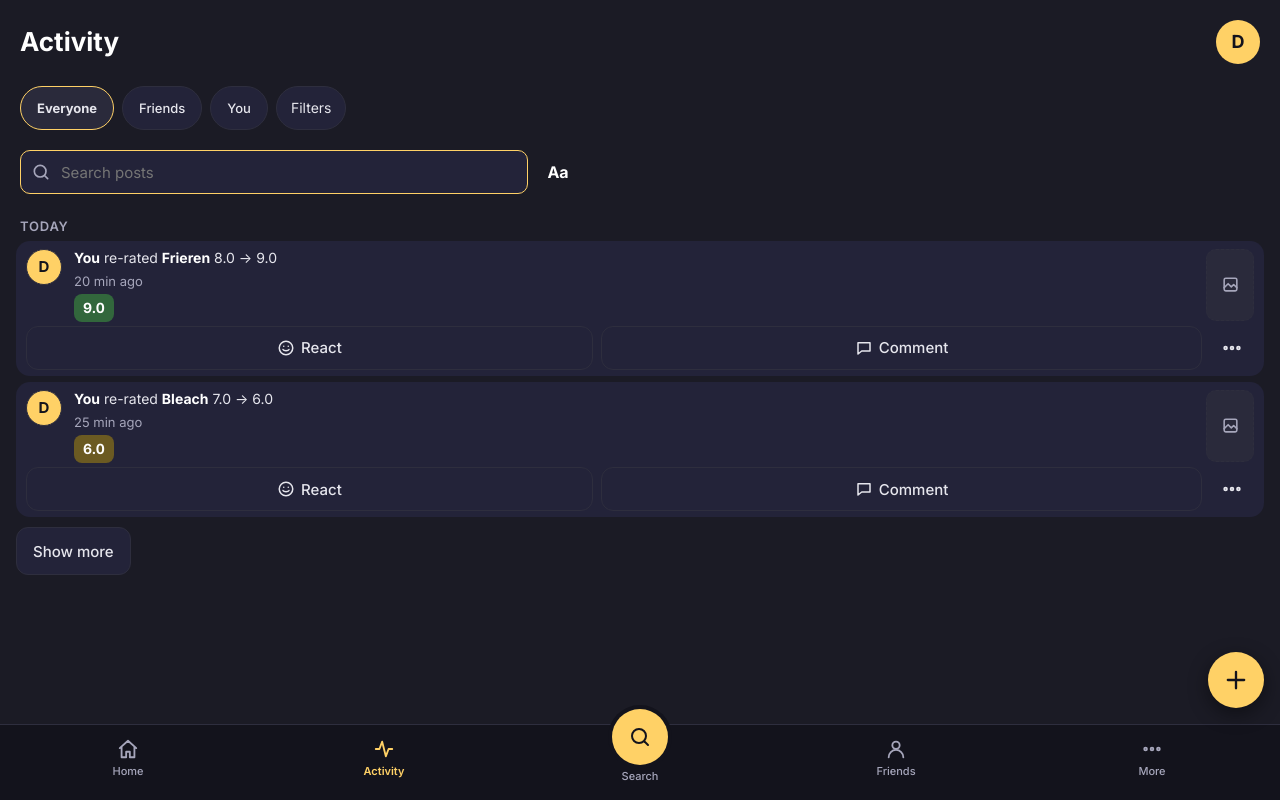
ActivityScreen › folds posts across the pages together: one line for a post split over two pages, none for a change and back
Expected: the link "Frieren" is shown, [162,249,210,266]
Click the button "Show more".
click(73, 551)  # box [16,527,131,575]
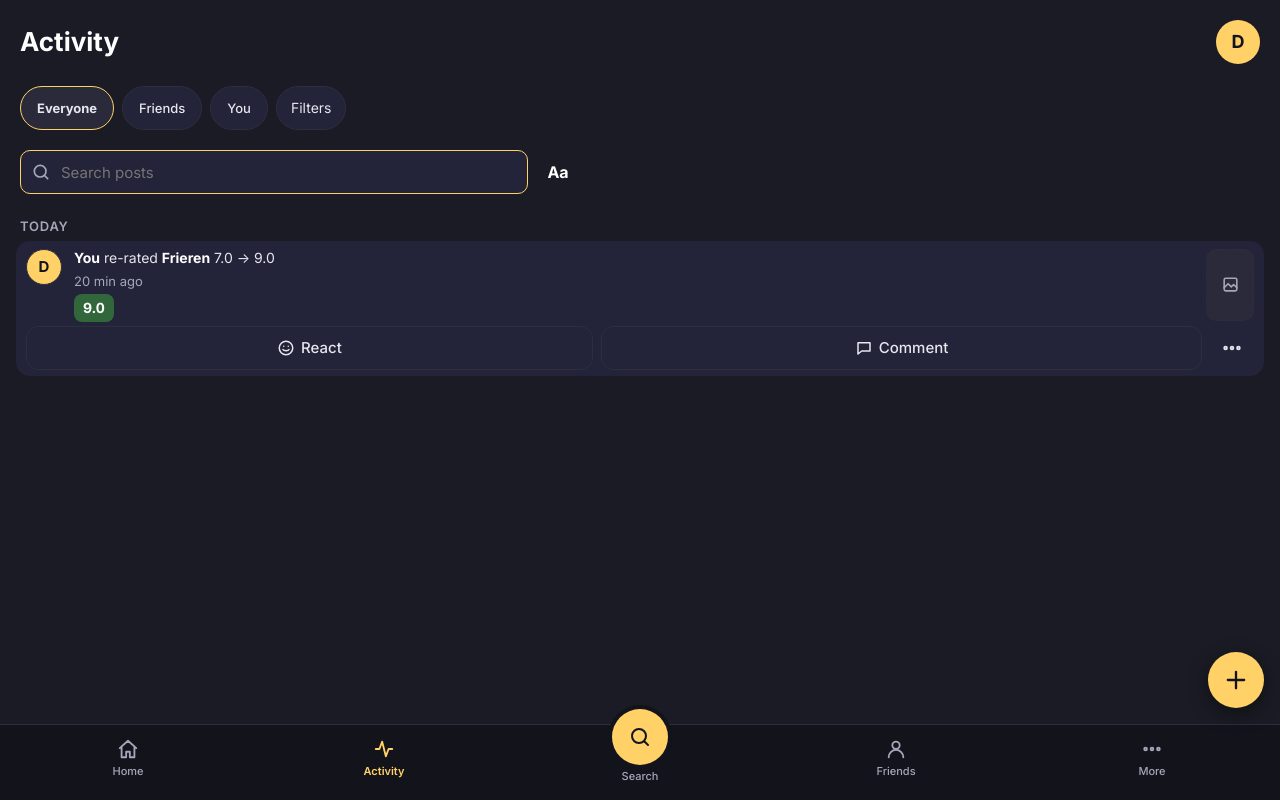
Expected: the number of links "Frieren" is 1, [162,249,210,266]
Now the list item "Frieren" shows "You re-rated Frieren 7.0 → 9.0", box [16,241,1264,376]
Now the link "Bleach" is gone
